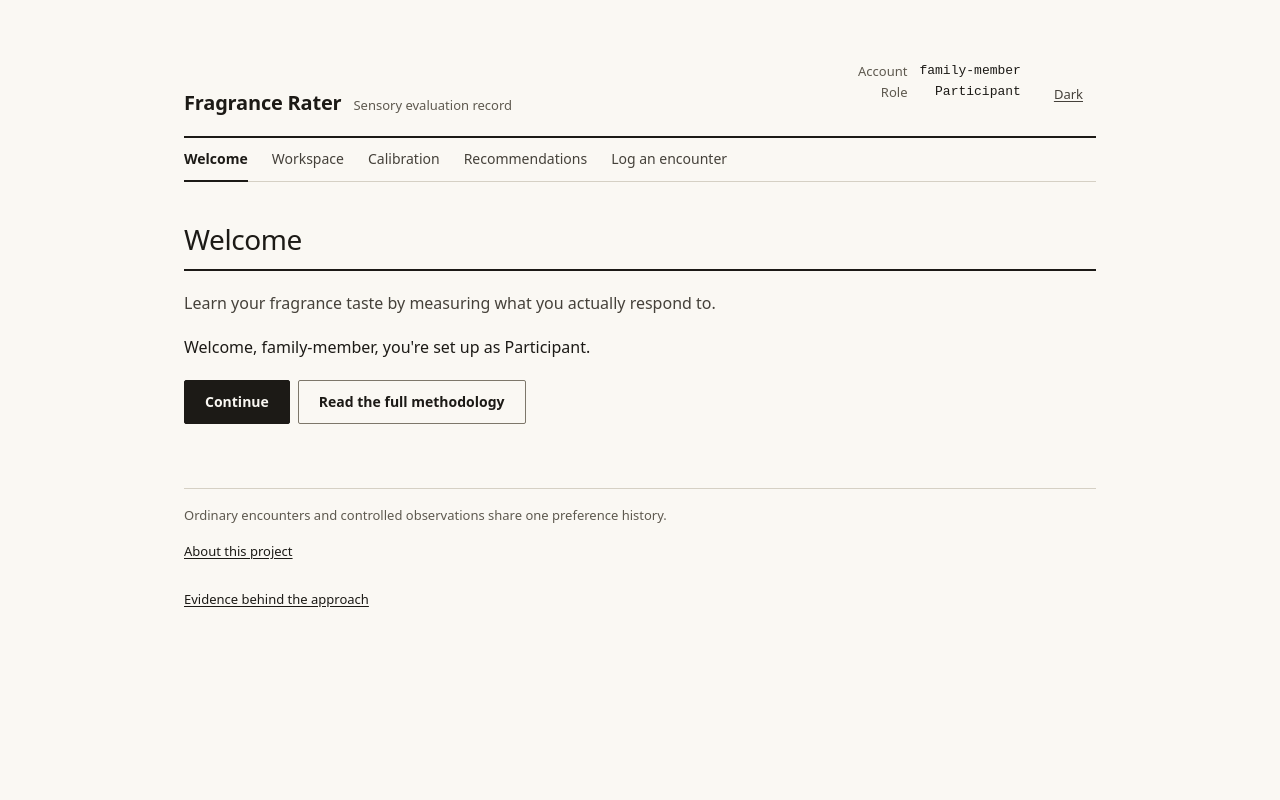
Test: WelcomePage › links to the full methodology page
Click the button "Read the full methodology" at point(412, 402), box [298,380,526,424]
(page scrolled)
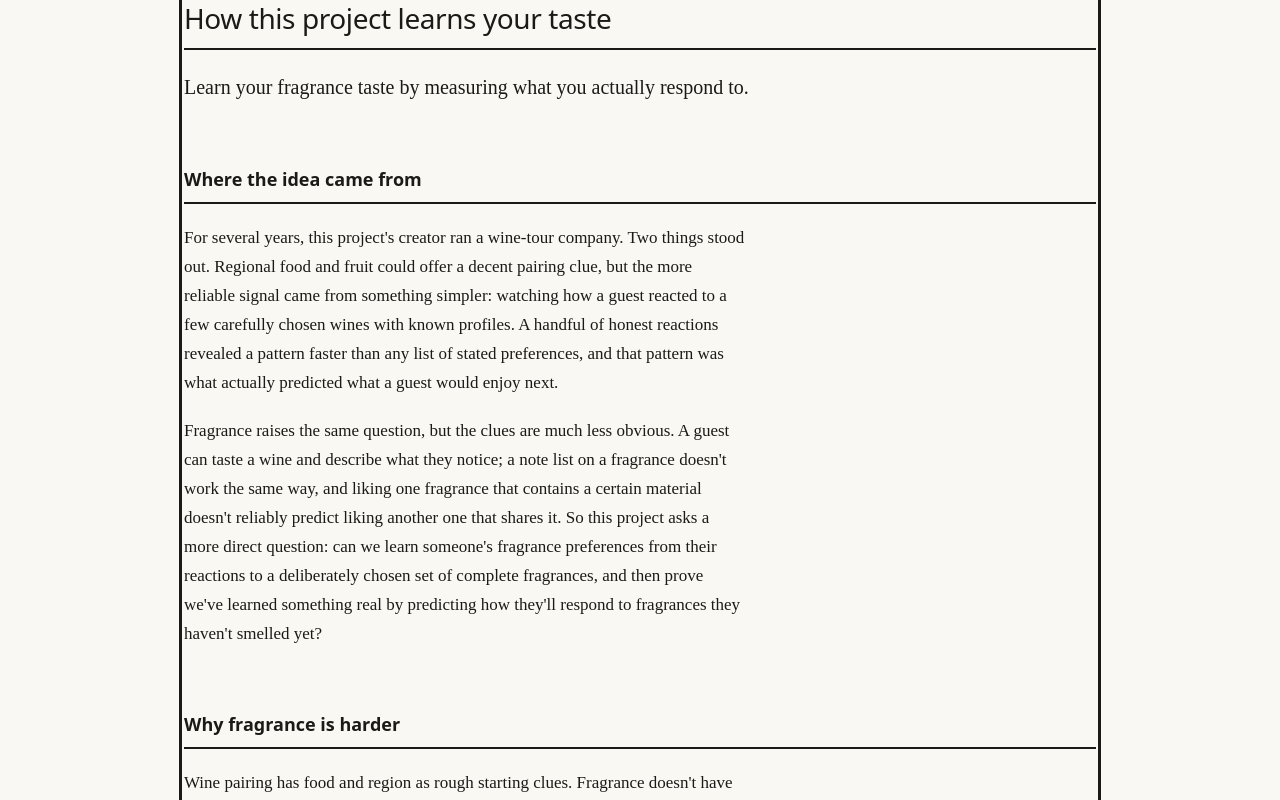
Result: the heading "How this project learns your taste" is shown at [184,1,611,36]
